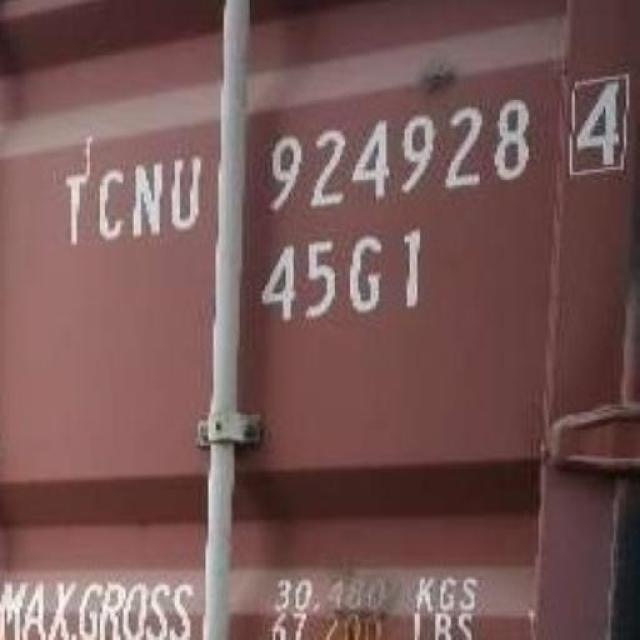ISO: (267, 220, 438, 323)
container_number: (48, 67, 635, 251)
